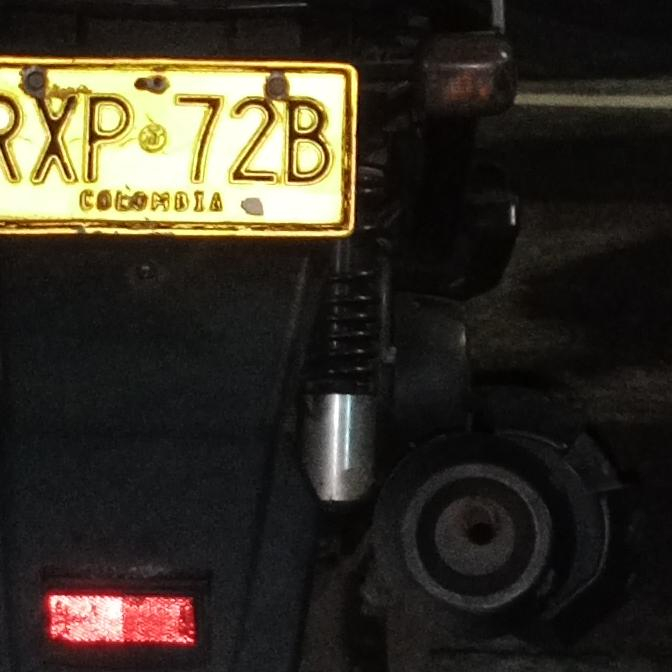plates: (0, 60, 366, 244)
